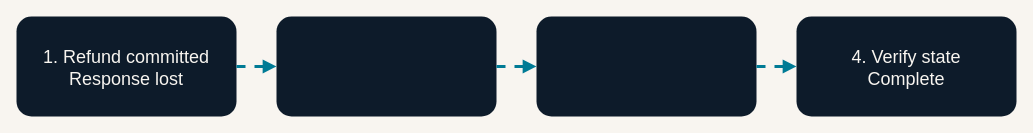
Some shapes in this 1033 by 133 pixel diagram are drawn without their labels. The shapes that lost their labels are listed below. From the top down, each one's centre as x and y in pixels, then its label:
At pixel 386 66: "2. Lookup misses Effect still exists".
At pixel 646 66: "3. Exact retry Existing receipt".
